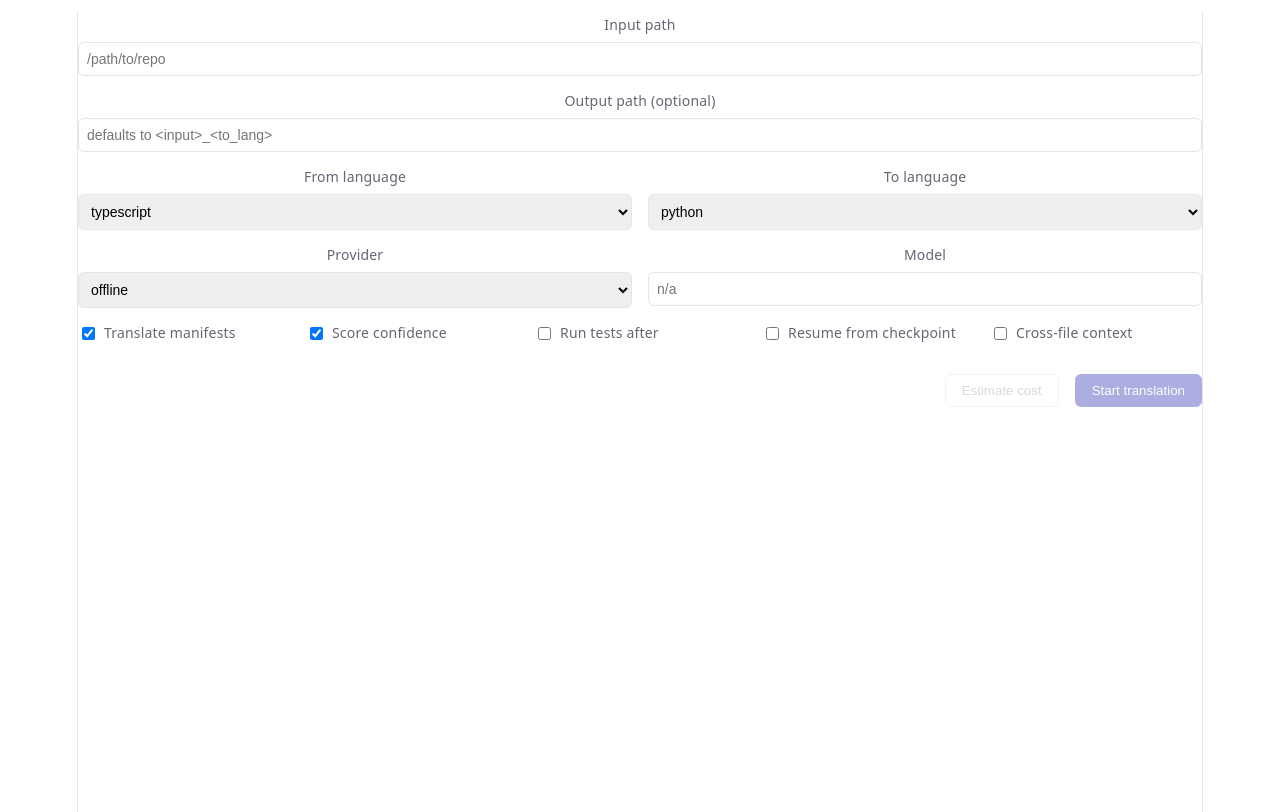
Test: TranslateForm › shows a Base URL field only for the openai-compat provider
expect the text "From language" is shown: met, box [78,164,632,230]
expect the field labelled "Base URL" is not shown: met
Select "openai-compat" in the dropdown labelled "Provider" at x=355, y=290, box [78,272,632,308]
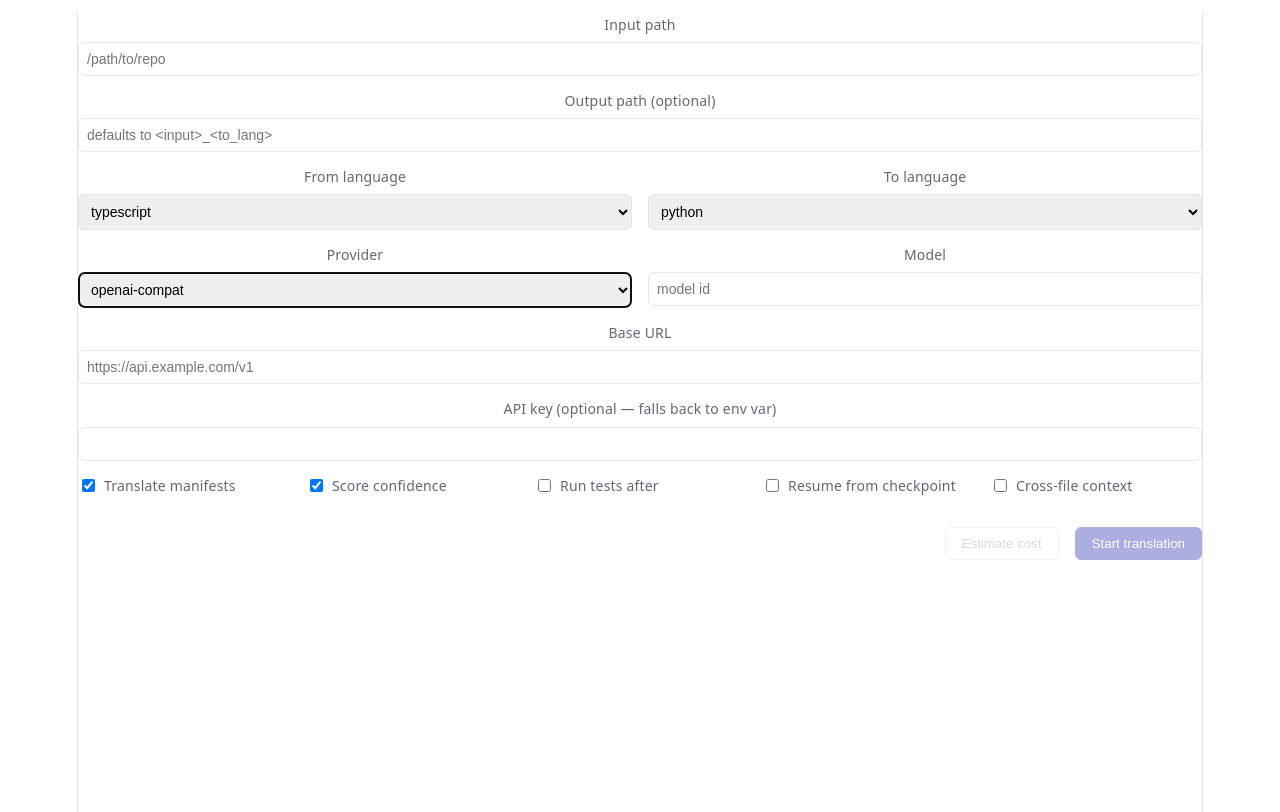
expect the field labelled "Base URL" is shown: met, box [78,350,1202,384]
